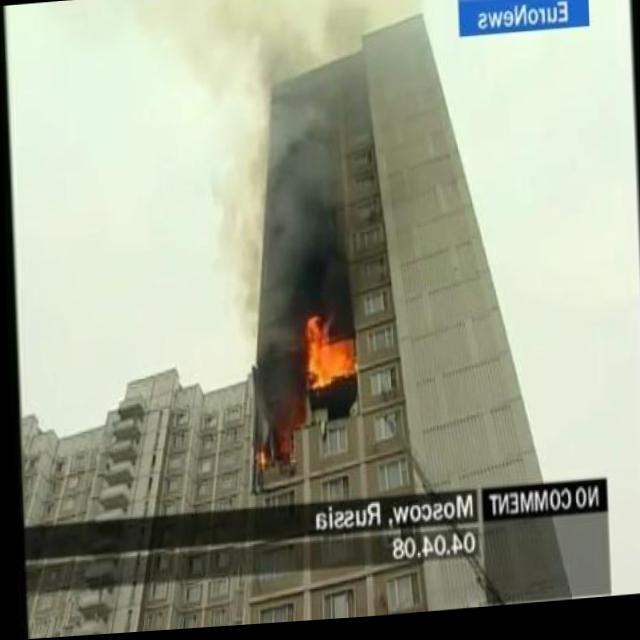fire: (298, 312, 356, 394)
